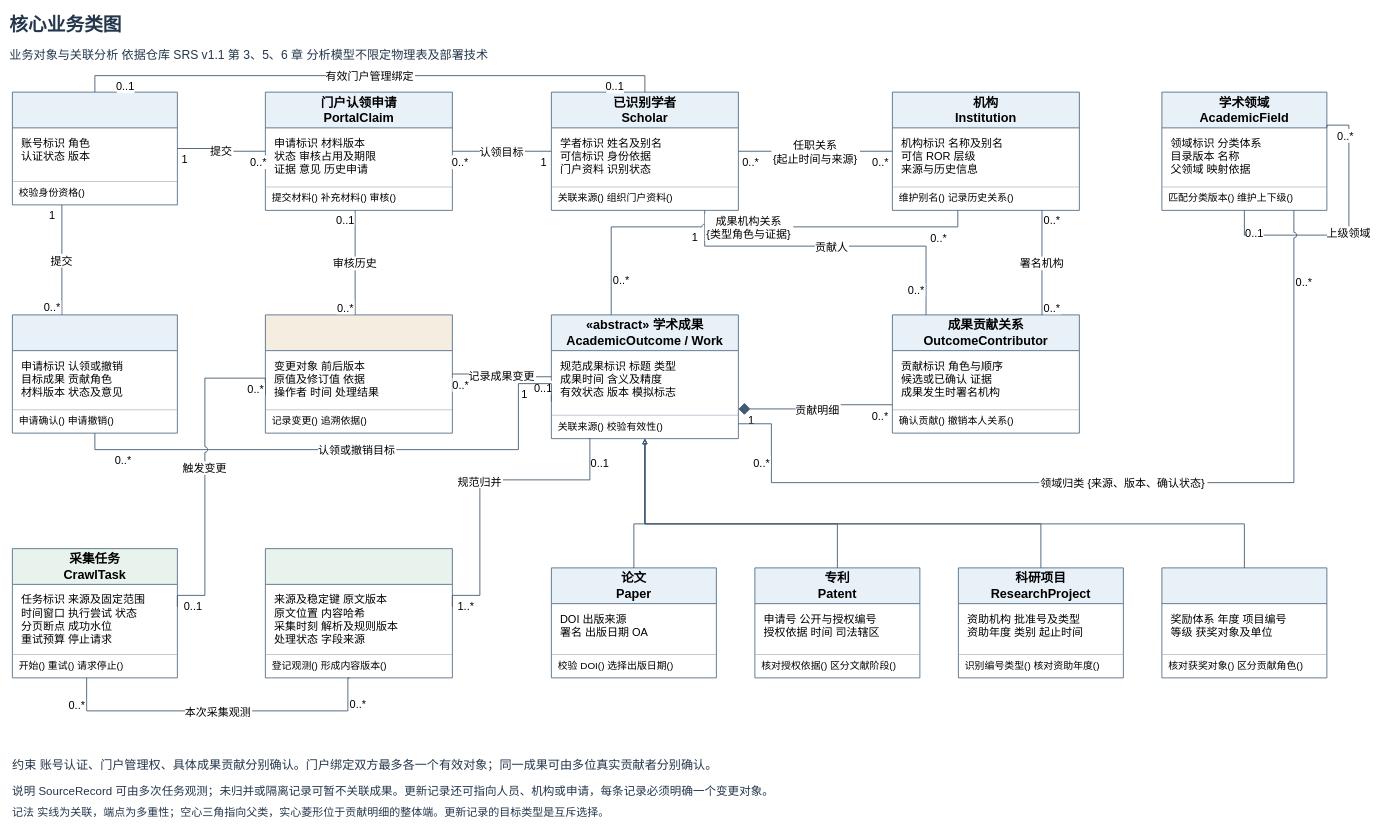
The diagram is 1381 pixels wide and 830 high, and some of its shapes have lost their labels. The box of each missing label's shape, as (x1, y1, x2, y2) in pixels:
平台账号 User: (12, 91, 178, 205)
成果认领申请 ResearcherOutcomeClaim: (12, 314, 178, 433)
更新记录 UpdateRecord: (265, 314, 453, 433)
来源记录 SourceRecord: (265, 548, 453, 678)
获奖 Award: (1161, 567, 1327, 678)
